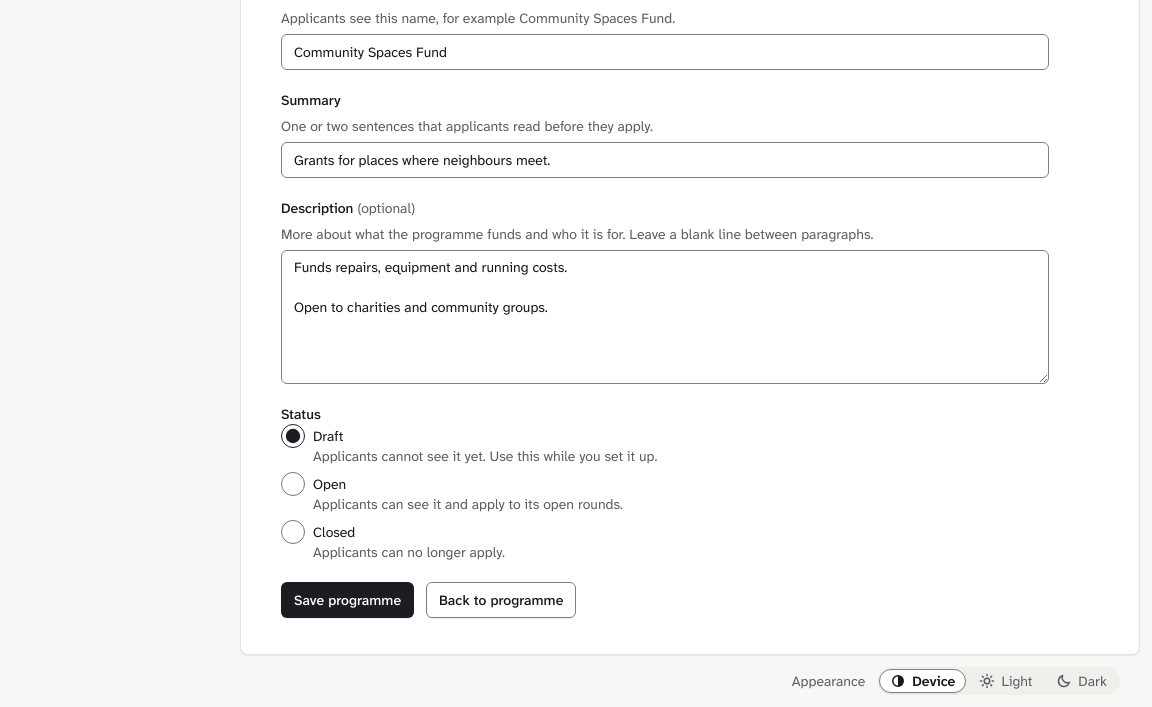
Scenario: changing a programme › stops saying it is saved as soon as something changes again
This screenshot has width=1152, height=707.
(page scrolled)
Expected: the field showing "Community Spaces Fund" is shown, 281,34 -> 1049,70
Click the button "Save programme" at (348,600), box 281,582 -> 414,618
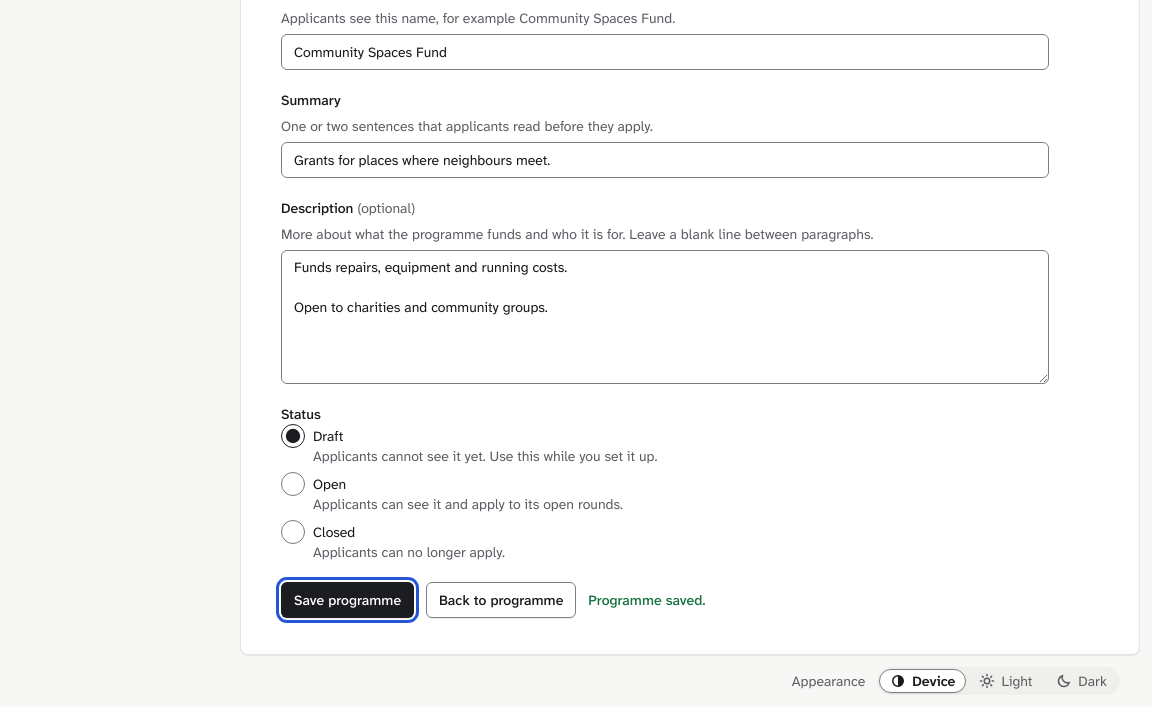
Result: the text "Programme saved." is shown at 588,590 -> 706,610
Type "!" into the field labelled "Summary" at (665,160), box 281,142 -> 1049,178
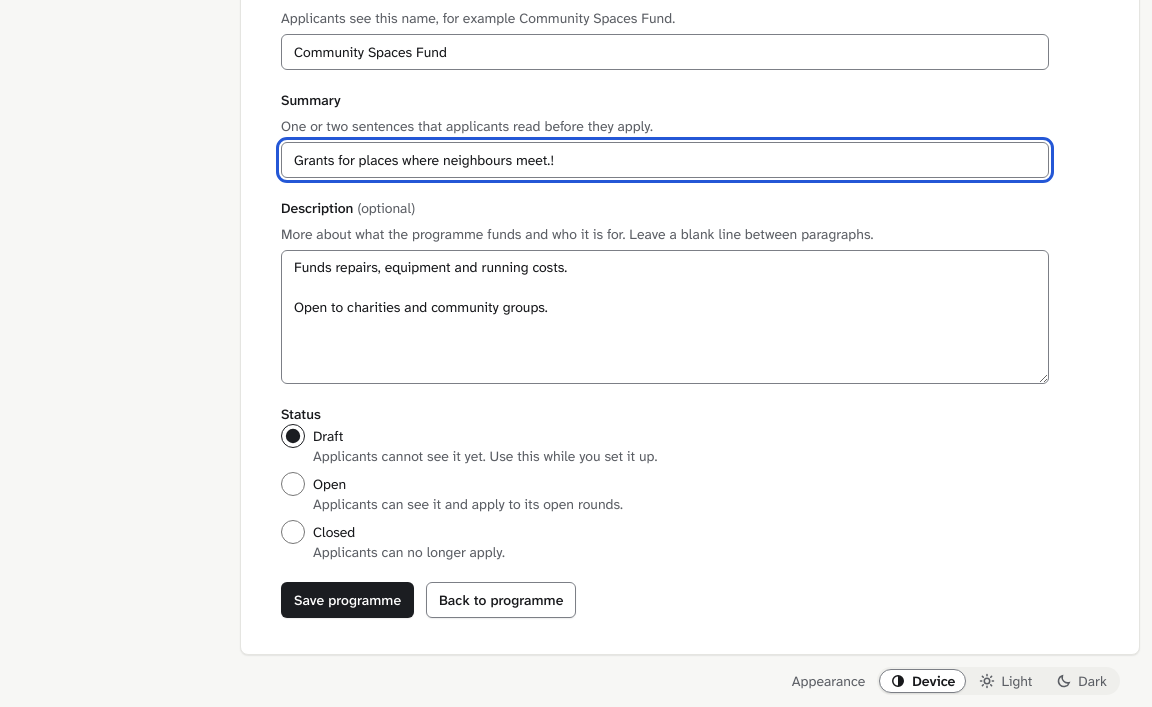
Result: the text "Programme saved." is gone
